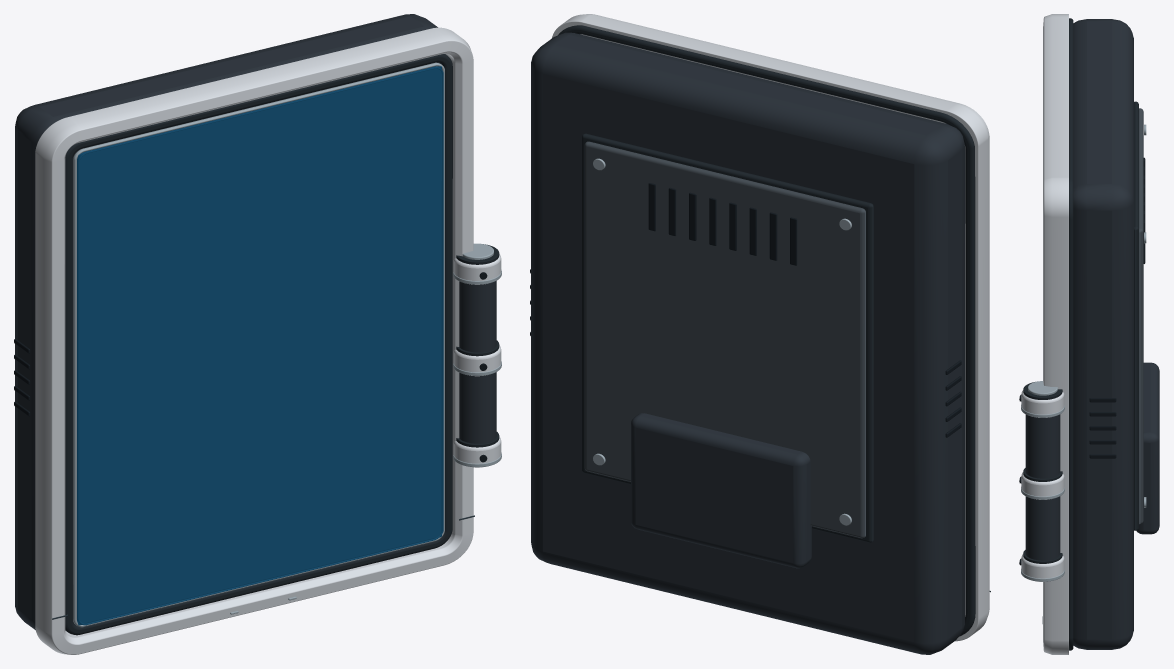
Rendered from left.glb.
3 views of the same model, side by side, from view 1: azimuth 30°, elevation 25°; view 2: azimuth 150°, elevation 25°; view 3: azimuth 270°, elevation 25° (orthographic). The views are drawn at different scales.
Parts seen in each view (by area): view 1: Left / inset anti-glare display.001, Left / sectioned polished structural bezel.001, Left / graphite back shell.001, Left / dark recessed gasket.001, Left / fixed hinge / Link / dark hinge barrel, Left / satin inner screen reveal.001, Left / polished glass edge.001, Left / fixed hinge / Link / machined hinge collar, Left / fixed hinge / Link / machined hinge collar.001, Left / fixed hinge / Link / machined hinge collar.002; view 2: Left / graphite back shell.001, Left / rear service cassette.001, Left / rear mounting receptacle.001, Left / sectioned polished structural bezel.001, Left / case seam.001, Left / rear service seam.001; view 3: Left / graphite back shell.001, Left / sectioned polished structural bezel.001, Left / fixed hinge / Link / dark hinge barrel, Left / case seam.001, Left / rear mounting receptacle.001, Left / rear service seam.001, Left / rear service cassette.001, Left / fixed hinge / Link / machined hinge collar.001, Left / fixed hinge / Link / machined hinge collar, Left / fixed hinge / Link / machined hinge collar.002, Left / fixed hinge / Link / flush upper cap, Left / fixed hinge / Link / collar gasket.002.
Boxes of the visible parts, x1=… form: Left / inset anti-glare display.001: x1=77, y1=66, x2=441, y2=625; Left / sectioned polished structural bezel.001: x1=35, y1=27, x2=473, y2=654; Left / graphite back shell.001: x1=15, y1=14, x2=439, y2=629; Left / dark recessed gasket.001: x1=65, y1=54, x2=452, y2=635; Left / fixed hinge / Link / dark hinge barrel: x1=459, y1=281, x2=496, y2=443; Left / satin inner screen reveal.001: x1=73, y1=62, x2=444, y2=627; Left / polished glass edge.001: x1=77, y1=67, x2=443, y2=625; Left / fixed hinge / Link / machined hinge collar: x1=453, y1=436, x2=501, y2=467; Left / fixed hinge / Link / machined hinge collar.001: x1=453, y1=345, x2=501, y2=376; Left / fixed hinge / Link / machined hinge collar.002: x1=453, y1=254, x2=501, y2=284; Left / graphite back shell.001: x1=531, y1=32, x2=964, y2=654; Left / rear service cassette.001: x1=584, y1=141, x2=865, y2=538; Left / rear mounting receptacle.001: x1=631, y1=413, x2=811, y2=568; Left / sectioned polished structural bezel.001: x1=552, y1=14, x2=989, y2=641; Left / case seam.001: x1=558, y1=25, x2=975, y2=636; Left / rear service seam.001: x1=582, y1=133, x2=873, y2=542; Left / graphite back shell.001: x1=1073, y1=19, x2=1133, y2=649; Left / sectioned polished structural bezel.001: x1=1043, y1=14, x2=1068, y2=654; Left / fixed hinge / Link / dark hinge barrel: x1=1025, y1=414, x2=1060, y2=560; Left / case seam.001: x1=1069, y1=18, x2=1073, y2=650; Left / rear mounting receptacle.001: x1=1136, y1=362, x2=1159, y2=534; Left / rear service seam.001: x1=1134, y1=101, x2=1138, y2=530; Left / rear service cassette.001: x1=1139, y1=108, x2=1143, y2=524; Left / fixed hinge / Link / machined hinge collar.001: x1=1021, y1=472, x2=1064, y2=499; Left / fixed hinge / Link / machined hinge collar: x1=1021, y1=554, x2=1064, y2=581; Left / fixed hinge / Link / machined hinge collar.002: x1=1021, y1=390, x2=1064, y2=417; Left / fixed hinge / Link / flush upper cap: x1=1028, y1=381, x2=1057, y2=395; Left / fixed hinge / Link / collar gasket.002: x1=1023, y1=382, x2=1062, y2=399.
Bounding box in the file's own units: 2.62 × 2.96 × 0.7902.
